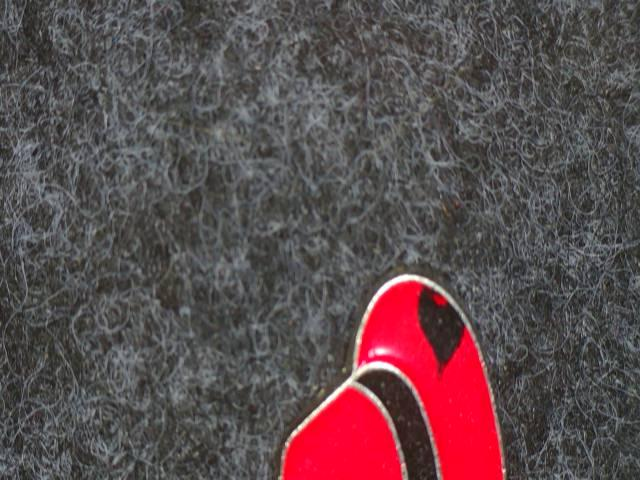Red-Hat: (241, 238, 528, 480)
Scratch: (399, 271, 481, 402)
